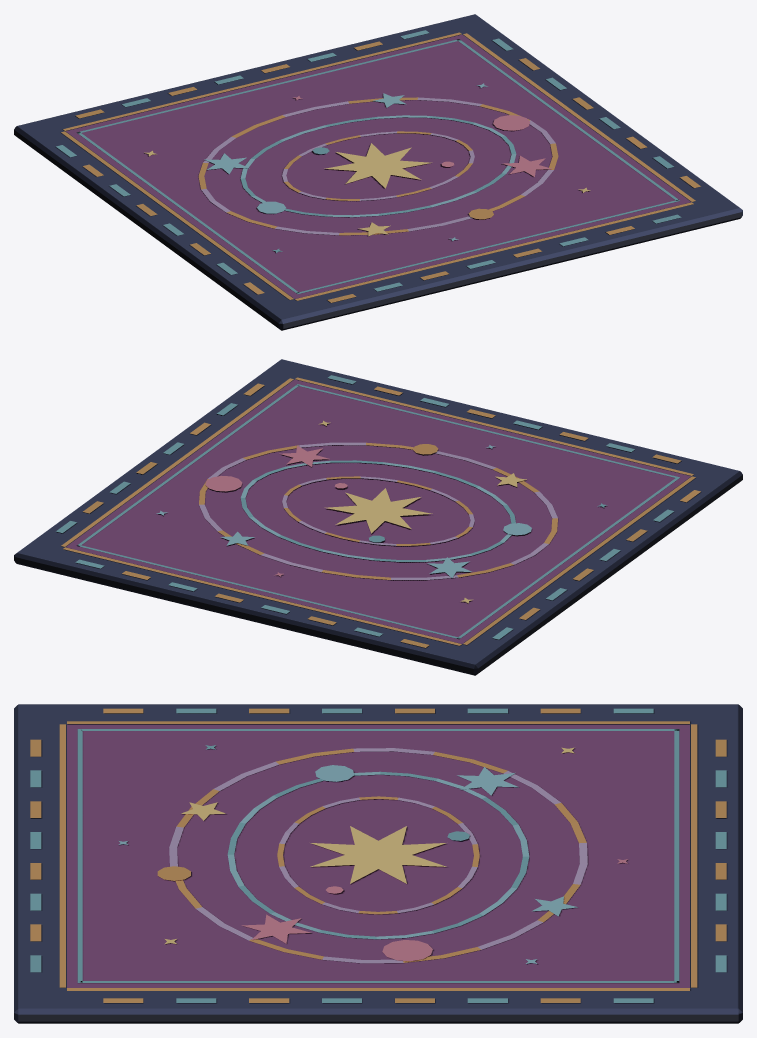
Rendered from 0-20261016-1900-ev029-r05-arcade-arcadecarpet_baked.glb.
3 views of the same model, one above another, from view 1: azimuth 30°, elevation 25°; view 2: azimuth 150°, elevation 25°; view 3: azimuth 270°, elevation 25° (orthographic). The views are drawn at different scales.
Parts seen in each view (by area): view 1: SW_Arcade_ArcadeCarpet; view 2: SW_Arcade_ArcadeCarpet; view 3: SW_Arcade_ArcadeCarpet.
Boxes of the visible parts, left/top/right/bottom form: SW_Arcade_ArcadeCarpet: left=14, top=14, right=742, bottom=330; SW_Arcade_ArcadeCarpet: left=14, top=359, right=742, bottom=675; SW_Arcade_ArcadeCarpet: left=14, top=704, right=742, bottom=1023.
Size of the model in its own units: 2 by 0.051 by 2.
Materials: 1 (1 with a texture image).
